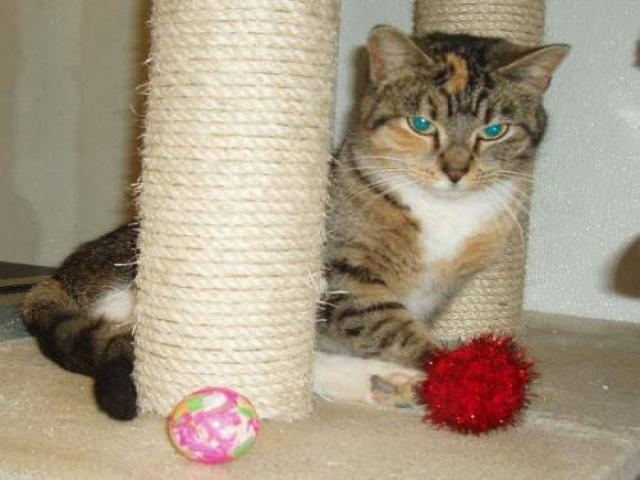cat: (323, 12, 568, 404)
